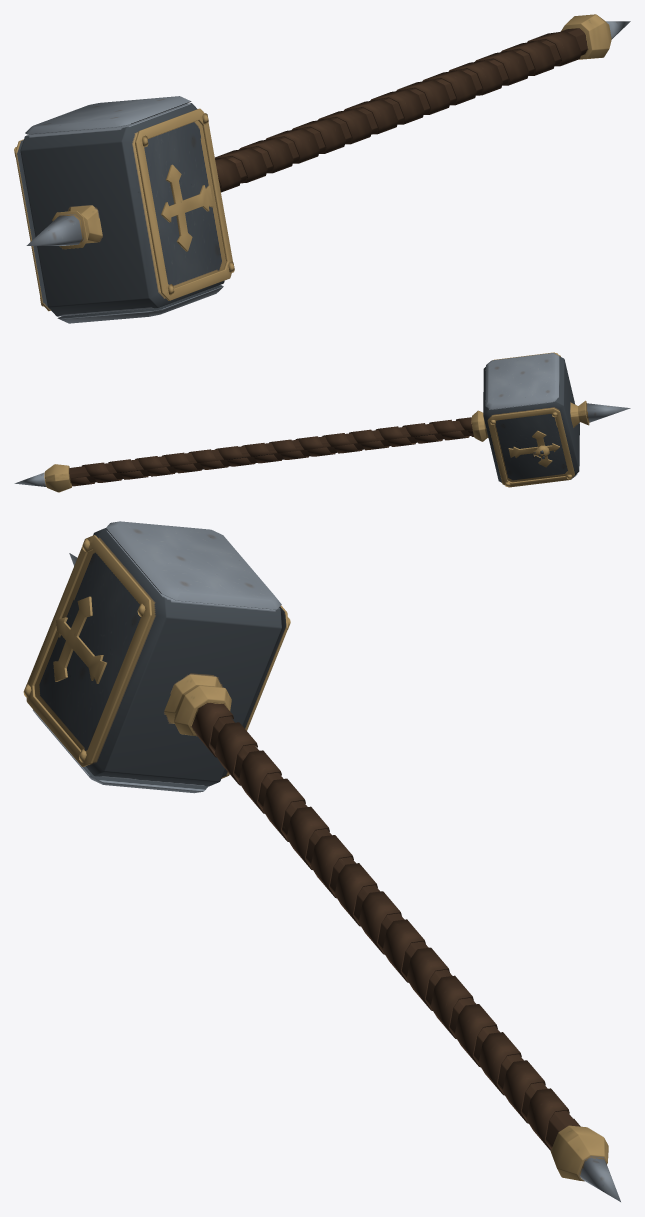
File: wep_civic_battle_prelate_dawn_maul_lod1.glb
3 renders of one model, top to bottom at view 1: azimuth 30°, elevation 25°; view 2: azimuth 150°, elevation 25°; view 3: azimuth 270°, elevation 25°, orthographic. The views are drawn at different scales.
Parts seen in each view (by area): view 1: battle_prelate_weapon_lod1; view 2: battle_prelate_weapon_lod1; view 3: battle_prelate_weapon_lod1.
Part boxes in pixels (box(x1,y1,x2,y2)): battle_prelate_weapon_lod1: box(14, 14, 630, 323); battle_prelate_weapon_lod1: box(14, 352, 630, 492); battle_prelate_weapon_lod1: box(23, 521, 620, 1201).
Size of the model in its own units: 1.59 by 0.4577 by 0.8591.
Materials: 1 (1 with a texture image).
